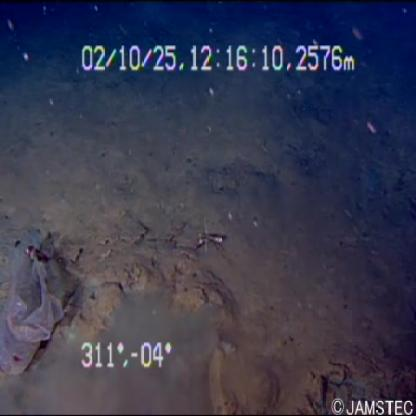Rác: (1, 220, 74, 373)
